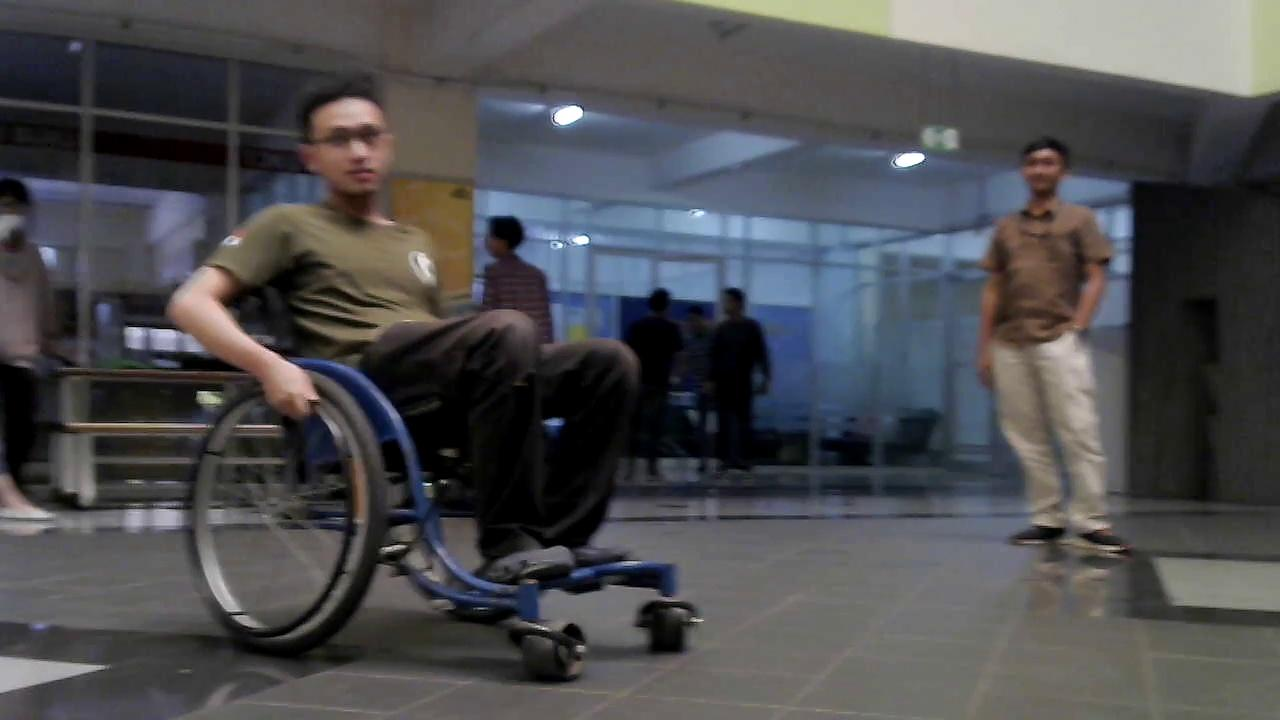person: (162, 74, 642, 594), (975, 139, 1128, 554), (0, 178, 60, 529), (709, 287, 775, 471), (625, 288, 685, 465), (472, 215, 554, 343)
wheelchair: (152, 275, 735, 686)
